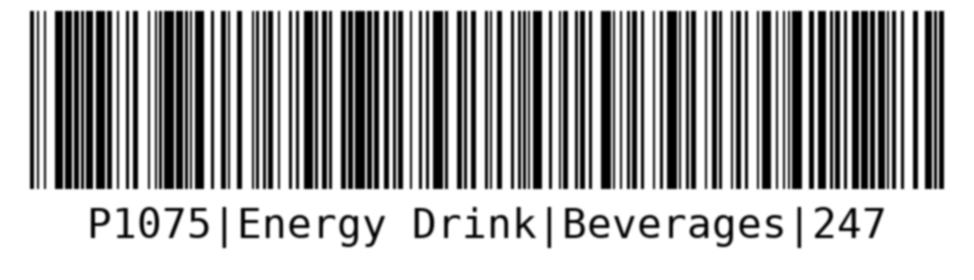milk: (18, 4, 952, 265)
